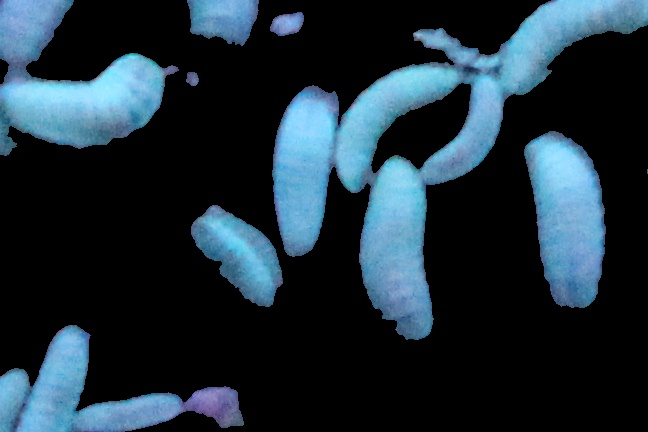larvae: (521, 128, 610, 312), (337, 49, 449, 190), (1, 52, 155, 150), (352, 156, 432, 343), (500, 1, 643, 95), (268, 85, 337, 256), (192, 206, 284, 312), (427, 75, 502, 184), (18, 324, 93, 431), (1, 1, 94, 62), (71, 394, 188, 432), (1, 362, 29, 432)
